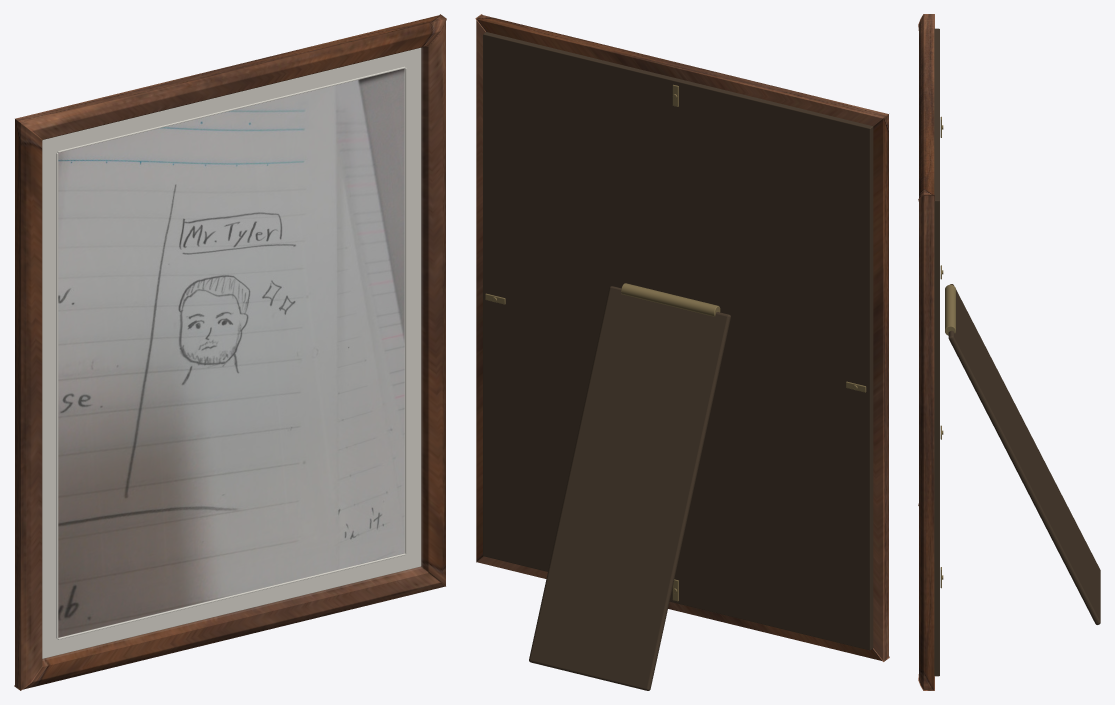
The model's file is student-drawing.glb.
The picture shows the model from 3 angles, left to right: view 1: azimuth 30°, elevation 25°; view 2: azimuth 150°, elevation 25°; view 3: azimuth 270°, elevation 25°; orthographic projection. The views are drawn at different scales.
Visible parts, largest first — view 1: Original photograph — exact 497 by 664 opening, Uncut archival mount, Walnut miter rail 3, Walnut miter rail 1, Walnut miter rail 2, Walnut miter rail 0, Mount opening bevel, Mount opening bevel.001, Mount opening bevel.002, Mount opening bevel.003; view 2: Fitted rear fiberboard, Hinged easel, Walnut miter rail 3, Walnut miter rail 2, Walnut miter rail 1, Walnut miter rail 0, Easel hinge; view 3: Hinged easel, Walnut miter rail 1, Fitted rear fiberboard, Walnut miter rail 2, Easel hinge.
Part boxes in pixels (x1,y1,x2,y2): Original photograph — exact 497 by 664 opening: (58, 68, 404, 637); Uncut archival mount: (42, 47, 421, 658); Walnut miter rail 3: (14, 119, 42, 690); Walnut miter rail 1: (421, 14, 446, 585); Walnut miter rail 2: (15, 15, 445, 140); Walnut miter rail 0: (23, 566, 445, 689); Mount opening bevel: (56, 153, 58, 638); Mount opening bevel.001: (405, 68, 406, 553); Mount opening bevel.002: (57, 553, 405, 639); Mount opening bevel.003: (57, 66, 405, 152); Fitted rear fiberboard: (483, 32, 873, 650); Hinged easel: (529, 286, 730, 690); Walnut miter rail 3: (873, 114, 889, 661); Walnut miter rail 2: (476, 15, 888, 126); Walnut miter rail 1: (475, 14, 485, 561); Walnut miter rail 0: (476, 556, 881, 660); Easel hinge: (621, 283, 720, 316); Hinged easel: (948, 284, 1100, 624); Walnut miter rail 1: (918, 195, 934, 690); Fitted rear fiberboard: (934, 28, 939, 676); Walnut miter rail 2: (918, 14, 934, 197); Easel hinge: (945, 284, 955, 335).
Size of the model in its own units: 0.6101 by 0.7771 by 0.2593.
Materials: 6 (2 with a texture image).
